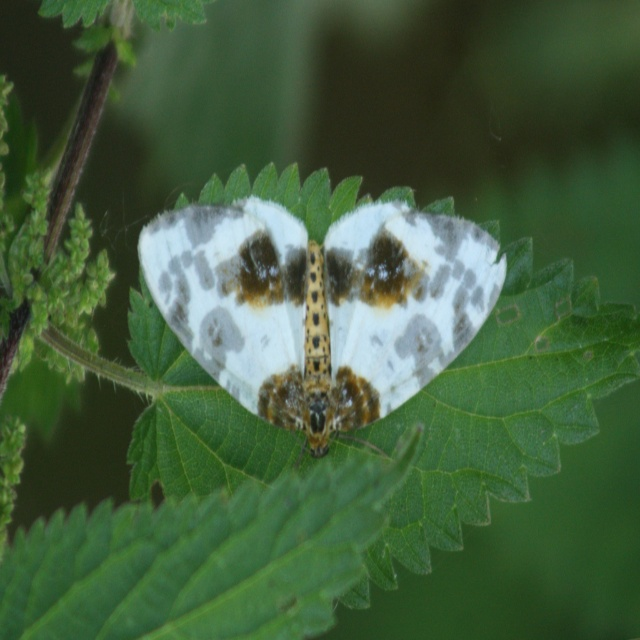Butterfly: (146, 165, 524, 507)
